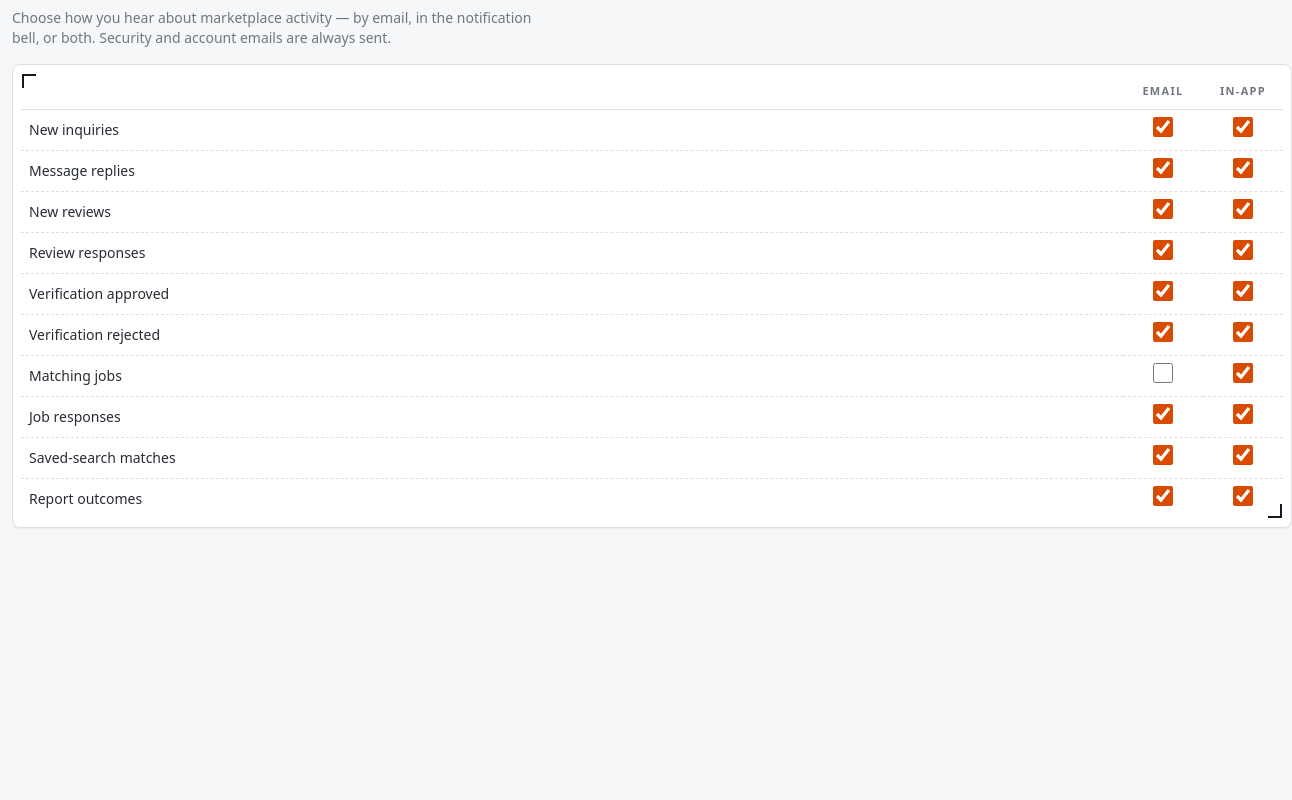
Test: NotificationPreferences › reverts the toggle and alerts when the save fails
What coordinates should you click on to do the following:
click the checkbox named "New inquiries — In-app"
I would click on:
 (1243, 127)
Its box is [1233,117,1253,137].
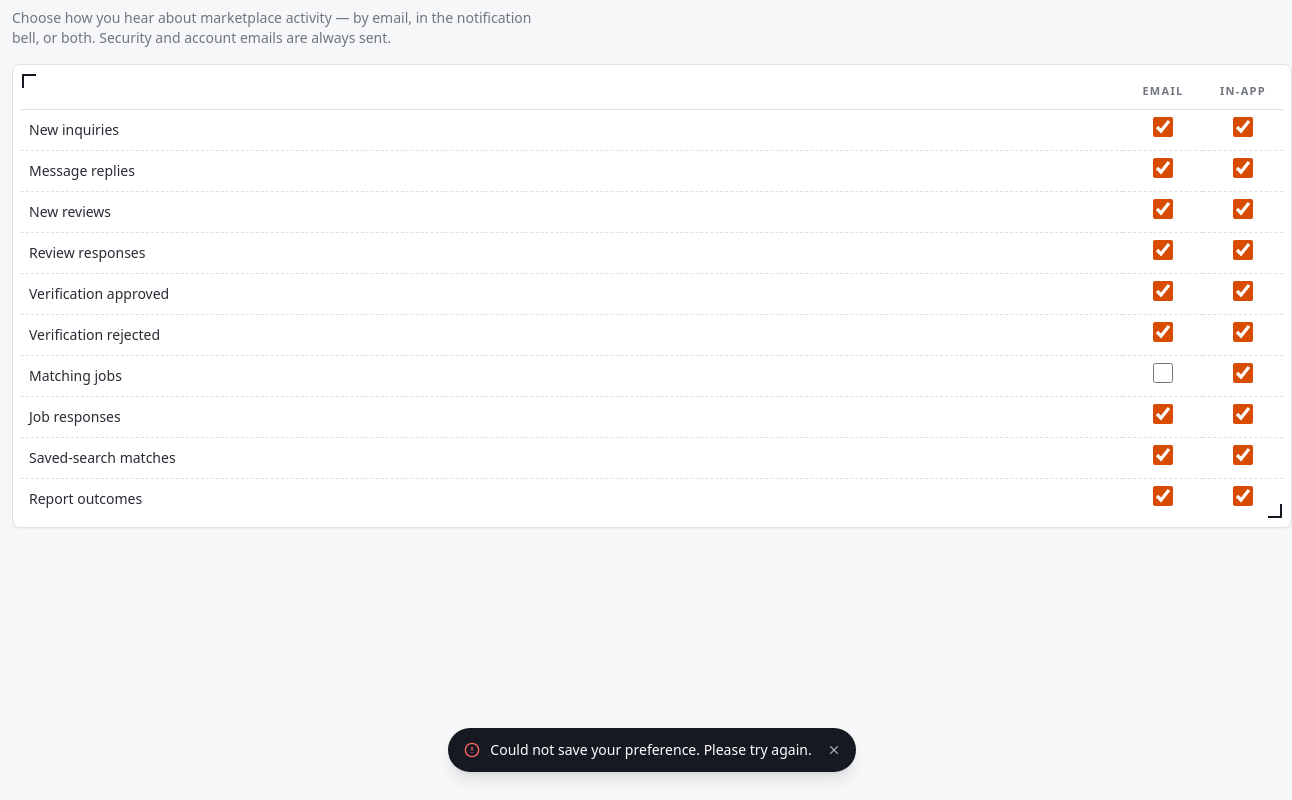
Expected: the message reads "Could not save your preference. Please try again.", [490,740,812,759]
